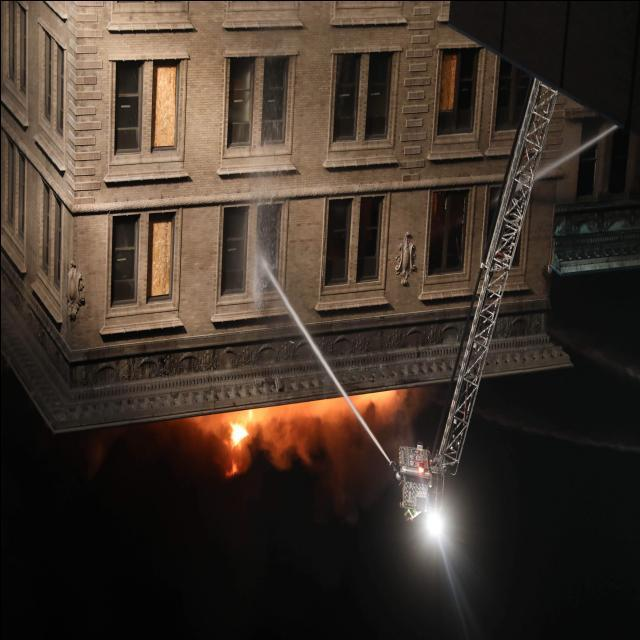Fire: (168, 392, 411, 468)
